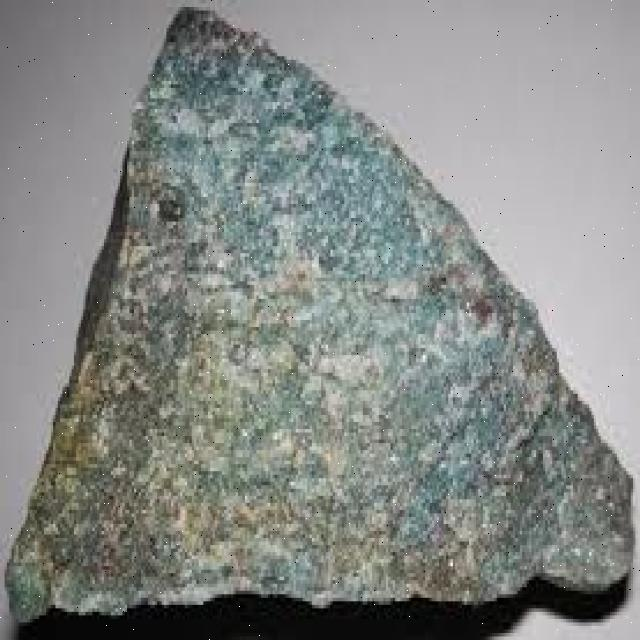Metamorphic: (7, 7, 633, 622)
